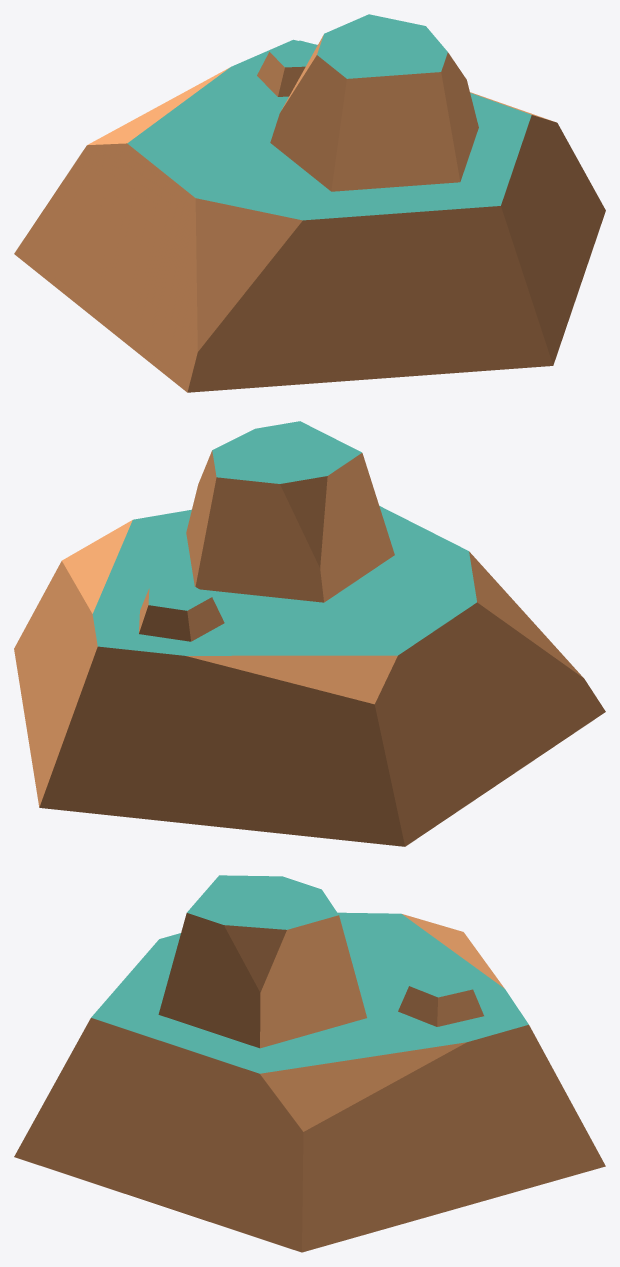
File: rock_smallTop2.obj
The picture shows the model from 3 angles, top to bottom: view 1: azimuth 30°, elevation 25°; view 2: azimuth 150°, elevation 25°; view 3: azimuth 270°, elevation 25°; orthographic projection. The views are drawn at different scales.
Visible parts, largest first — view 1: rock_smallTop2; view 2: rock_smallTop2; view 3: rock_smallTop2.
Part boxes in pixels (x1,y1,x2,y2): rock_smallTop2: [14, 14, 605, 392]; rock_smallTop2: [14, 421, 605, 846]; rock_smallTop2: [14, 875, 605, 1252].
Bounding box in the file's own units: 6.22 × 2.8 × 6.46.
